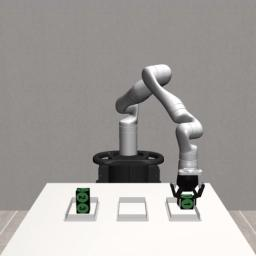cube1: (180, 194, 194, 210)
cube2: (76, 188, 90, 202)
cube3: (76, 201, 90, 214)
